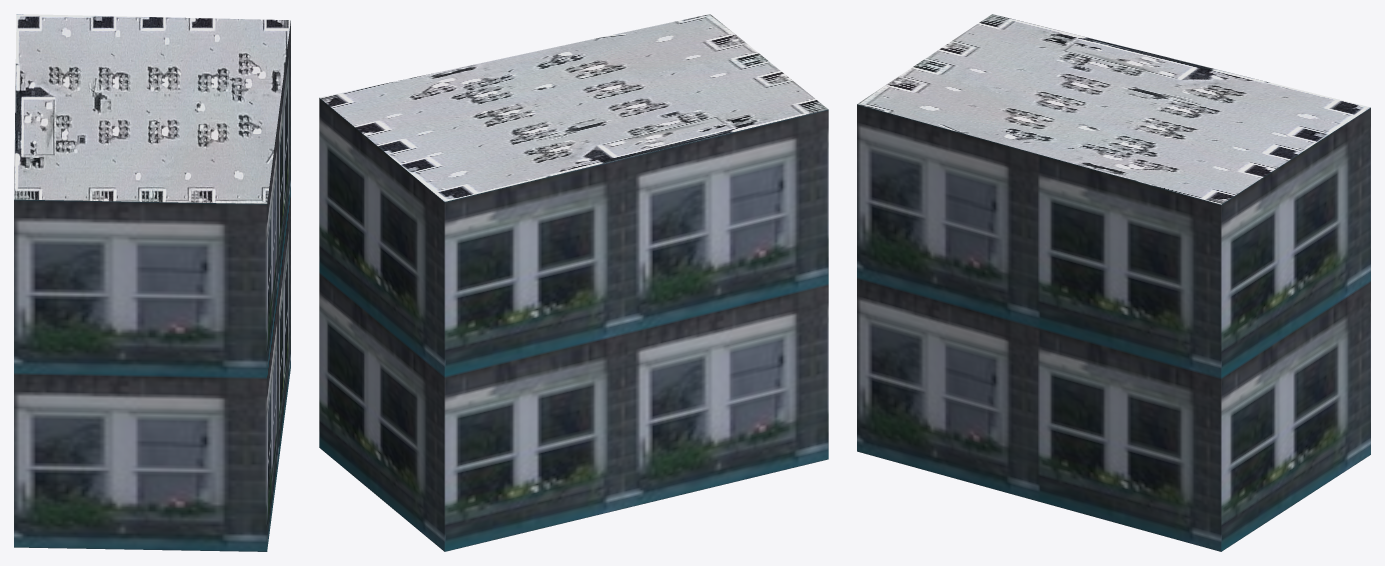
The model's file is ResTex__4883.fbx.
3 views of the same model, side by side, from view 1: azimuth 30°, elevation 25°; view 2: azimuth 150°, elevation 25°; view 3: azimuth 270°, elevation 25° (orthographic).
Parts seen in each view (by area): view 1: CityEngineMaterial_11_m, CityEngineMaterial_m; view 2: CityEngineMaterial_11_m, CityEngineMaterial_m; view 3: CityEngineMaterial_11_m, CityEngineMaterial_m.
Boxes of the visible parts, x1=… form: CityEngineMaterial_11_m: x1=14, y1=21, x2=290, y2=551; CityEngineMaterial_m: x1=14, y1=14, x2=290, y2=203; CityEngineMaterial_11_m: x1=319, y1=98, x2=828, y2=551; CityEngineMaterial_m: x1=320, y1=14, x2=828, y2=201; CityEngineMaterial_11_m: x1=857, y1=104, x2=1370, y2=551; CityEngineMaterial_m: x1=857, y1=14, x2=1370, y2=204.
Bounding box in the file's own units: 7.06 × 6 × 8.05.
2 materials, 2 textured.
